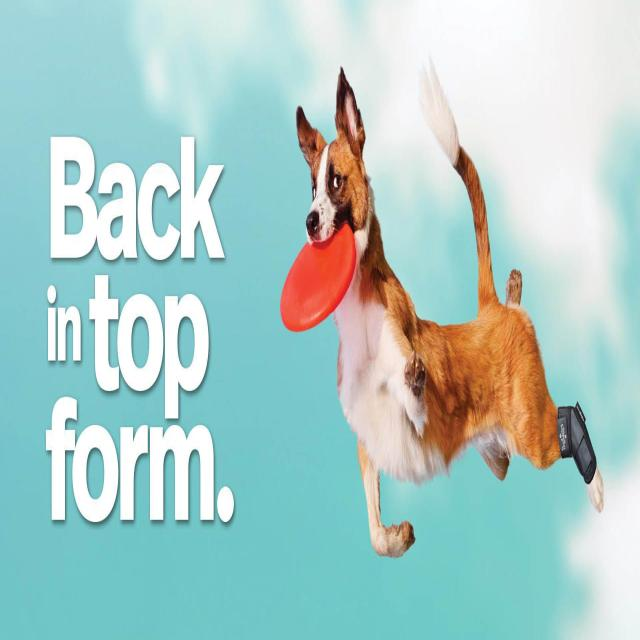Dog: (287, 73, 379, 271)
